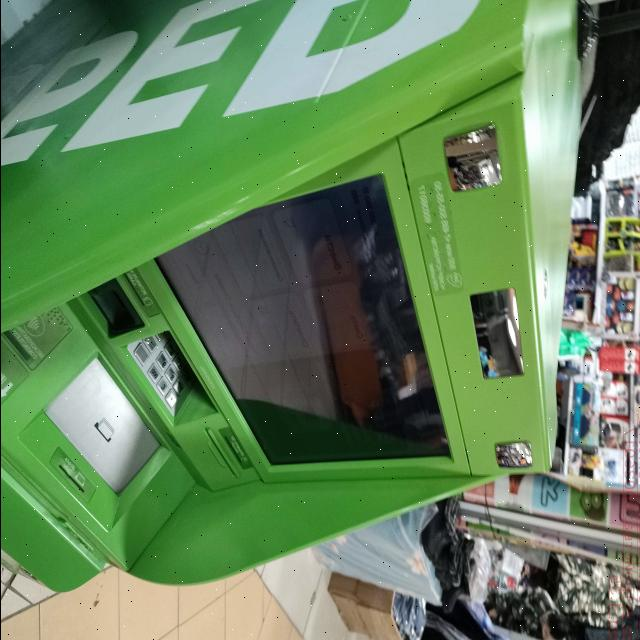bank: (0, 0, 585, 588)
